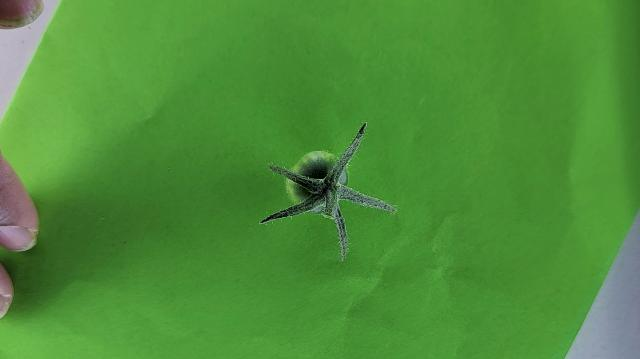Fruit Maturation: (287, 151, 347, 207)
